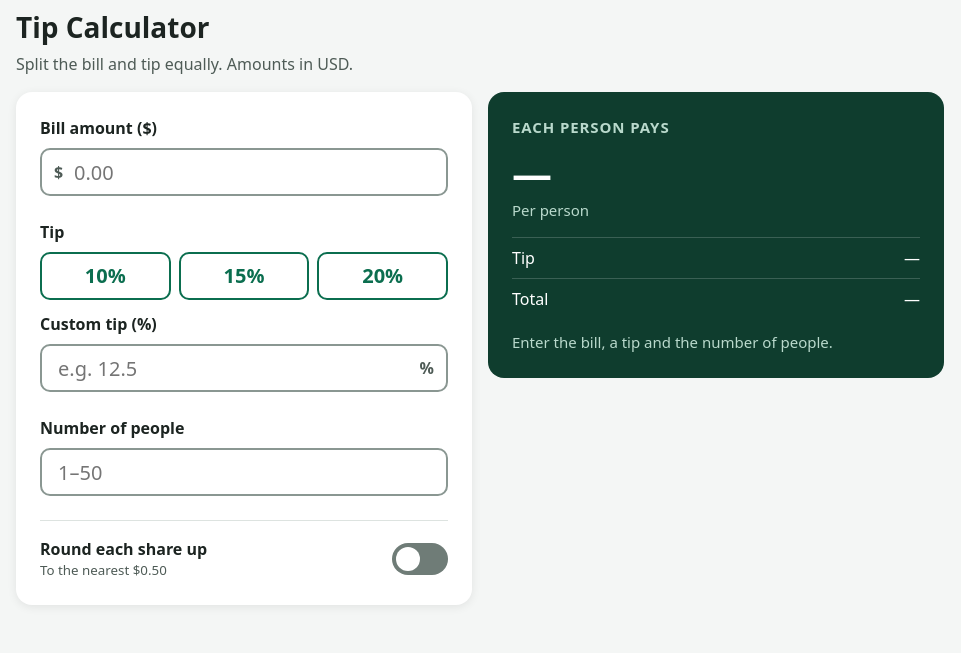
Test case: S5: Clear messages instead of broken results › leaving an empty field shows its message
Click the field labelled "Bill amount ($)": (244, 172) [40, 148, 448, 196]
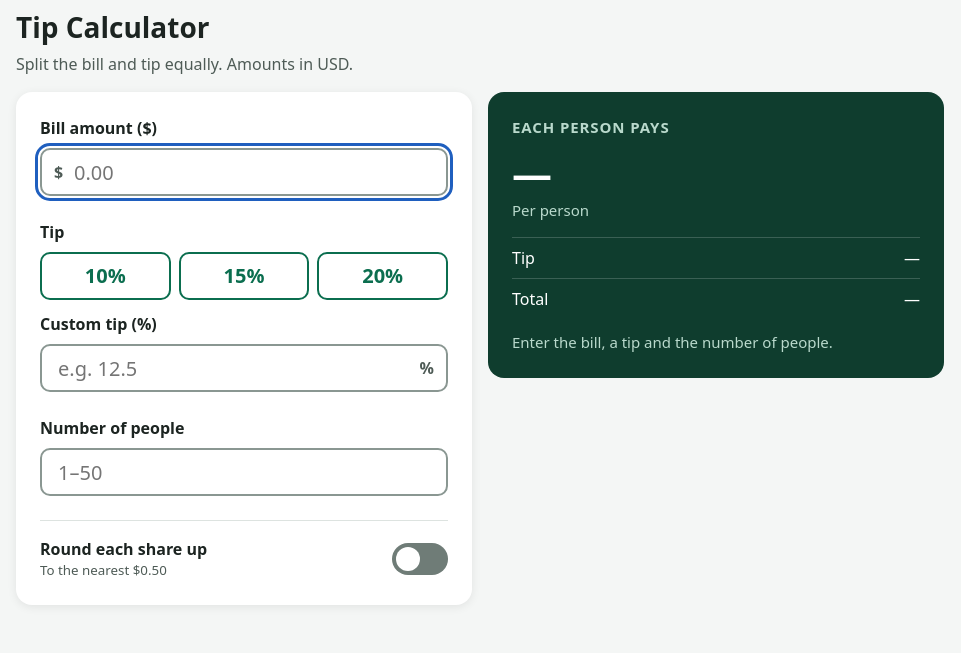
Press Tab
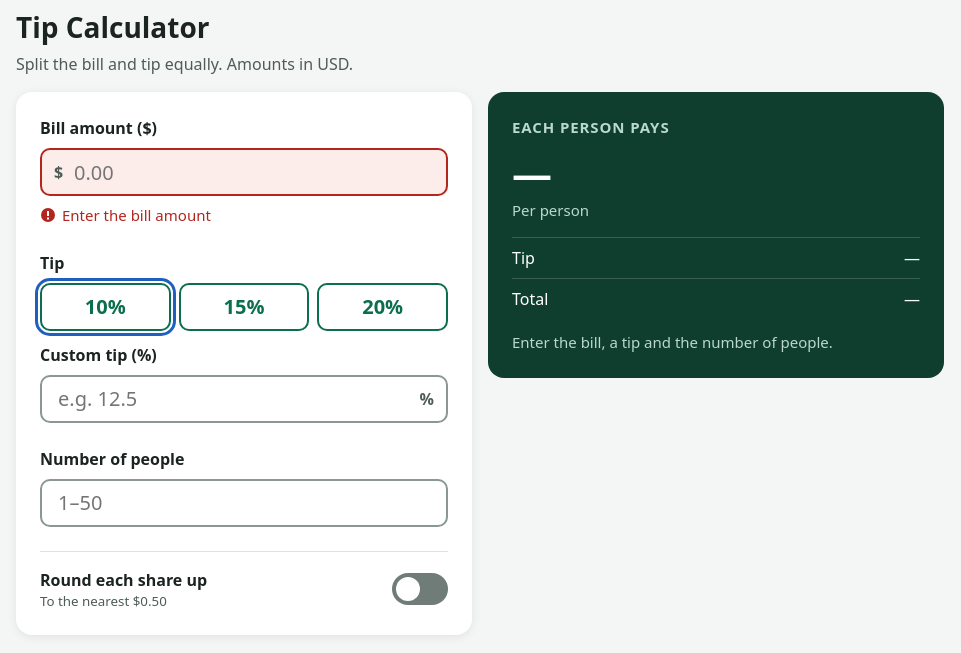
Check: the element showing "Enter the bill amount" is shown, box [40, 205, 211, 225]
